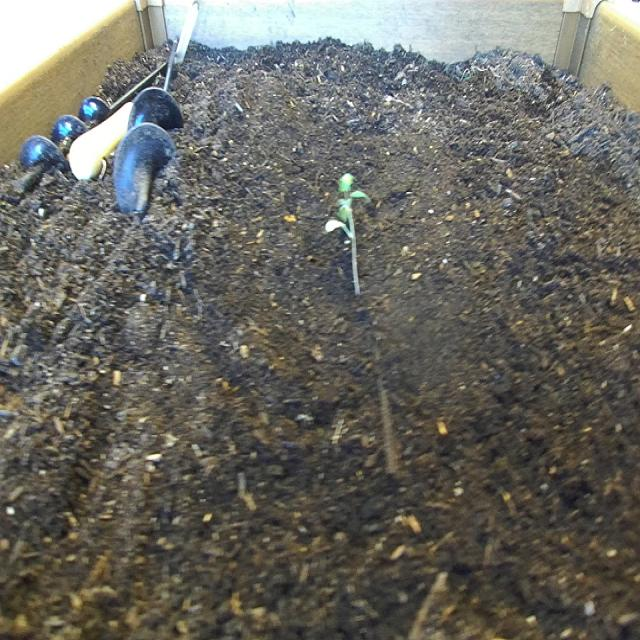Healthy: (316, 145, 381, 310)
